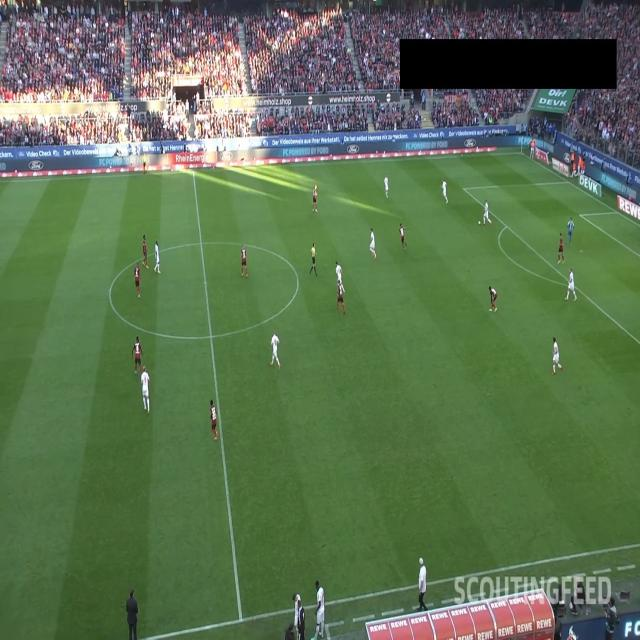ball: (478, 220, 481, 225)
